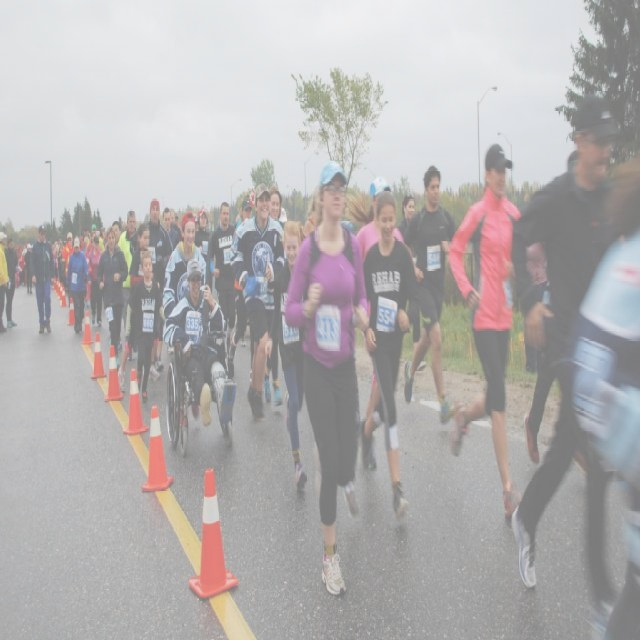pessoa: (514, 93, 627, 632), (284, 160, 370, 596), (450, 141, 532, 525), (584, 160, 640, 639), (524, 146, 590, 474), (355, 188, 418, 520), (400, 161, 462, 428), (228, 182, 286, 424), (352, 174, 406, 424), (162, 255, 237, 428), (302, 182, 349, 411), (274, 218, 310, 492), (117, 222, 160, 394), (226, 194, 256, 384), (523, 178, 551, 378), (144, 198, 174, 376), (128, 248, 160, 404), (162, 211, 208, 319), (96, 227, 129, 371), (208, 201, 238, 356), (264, 186, 284, 407), (31, 221, 56, 336), (64, 234, 92, 334), (118, 208, 138, 328), (86, 237, 106, 326), (84, 232, 104, 308), (4, 234, 18, 328), (0, 229, 10, 334), (194, 208, 212, 264), (160, 206, 180, 252), (396, 190, 415, 236), (61, 231, 76, 279), (23, 241, 34, 295), (13, 244, 25, 288), (50, 240, 60, 284), (297, 215, 315, 238), (56, 238, 64, 283), (338, 211, 356, 230), (111, 218, 122, 246), (78, 224, 90, 249), (95, 224, 106, 249), (169, 206, 179, 226), (278, 206, 288, 226), (234, 208, 244, 224), (193, 208, 199, 232), (244, 189, 254, 200), (90, 224, 97, 234), (62, 239, 68, 248)
